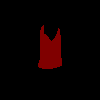canottiera: (37, 24, 62, 68)
